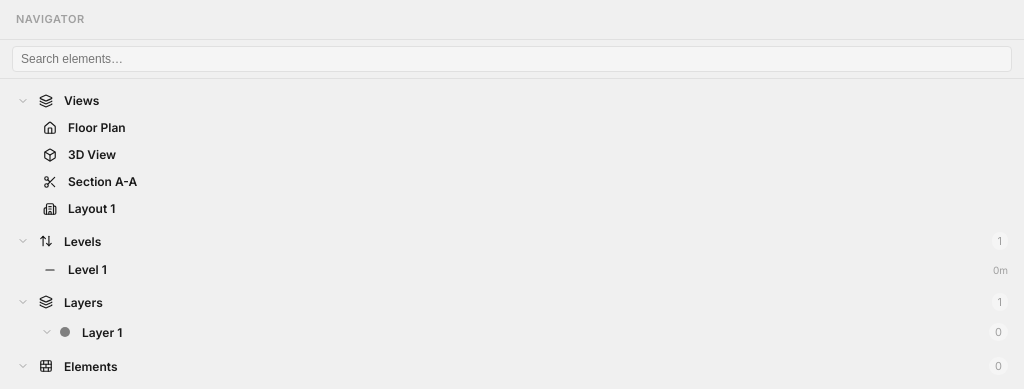
T-UI-004: Navigator › collapses Views section on click
Click the text "Views": x=82, y=100 [17,93,100,108]
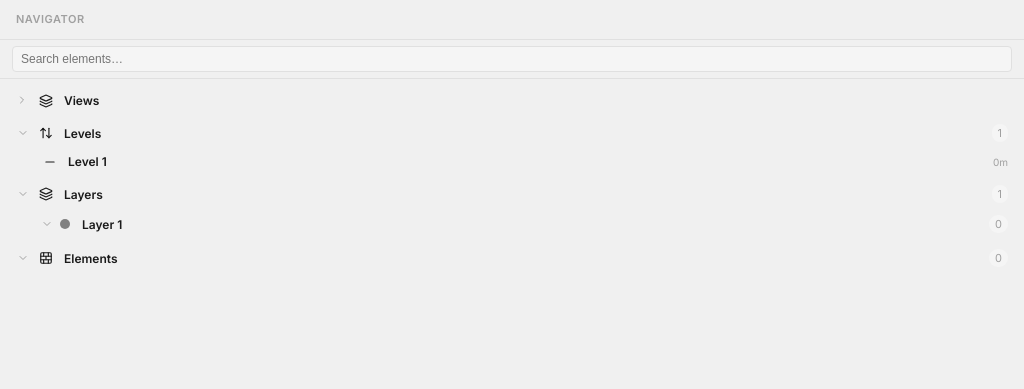
expect the text "Floor Plan" is gone: met
